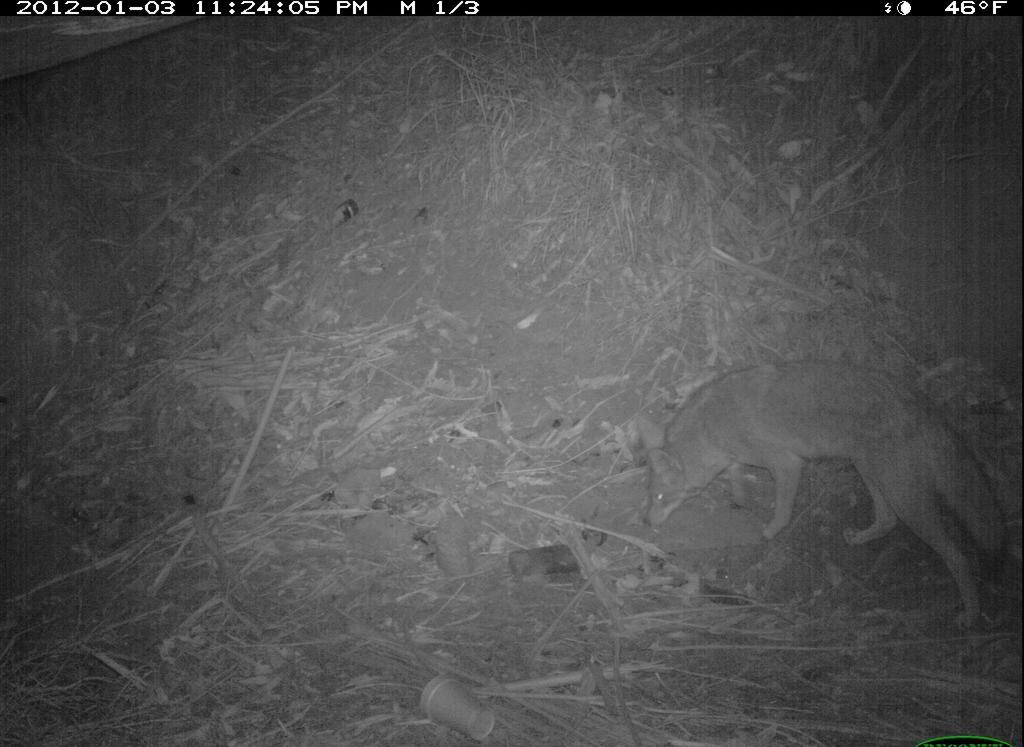coyote: (616, 335, 1009, 628)
